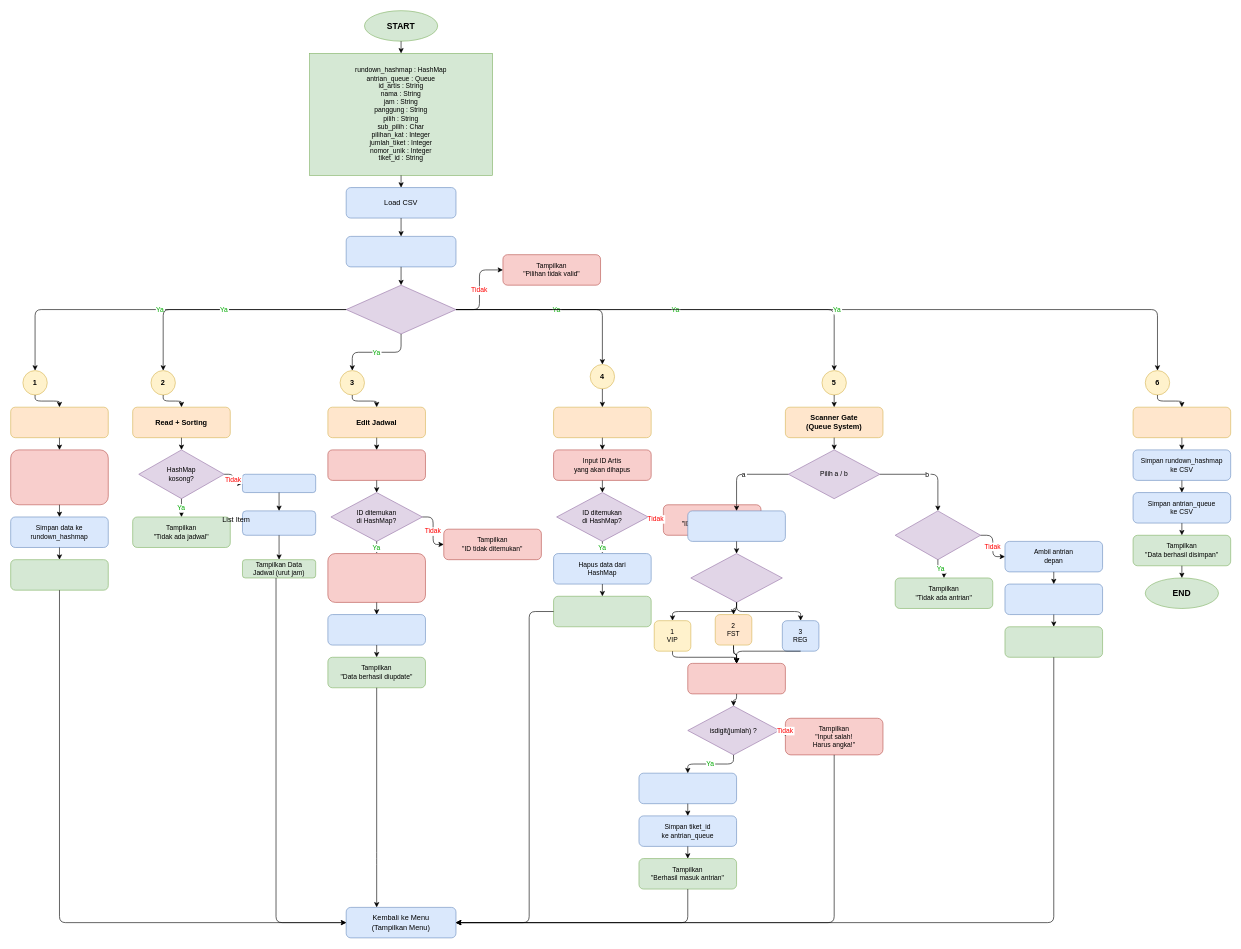
Some shapes in this 1241 by 949 pixel diagram are drawn without their labels. The box of each missing label's shape, as (x1, y1, x2, y2) in pixels:
Antrian kosong?: (895, 510, 981, 560)
Bubble Sort (berdasarkan jam): (242, 510, 316, 535)
Generate tiket_id: (638, 773, 737, 804)
Hapus Artis: (553, 407, 651, 438)
Hapus dari antrian_queue: (1004, 583, 1103, 615)
Input Data Baru: - Nama Artis - Jam Tampil - Panggung: (327, 553, 425, 602)
Input ID Artis yang akan diedit: (327, 449, 425, 480)
Input Jumlah Tiket: (687, 663, 785, 694)
Input: - ID Artis - Nama Artis - Jam Tampil - Panggung: (10, 449, 108, 505)
Kategori?: (690, 553, 782, 602)
Pilih Kategori Tiket: (687, 510, 785, 541)
Pilihan valid (1 - 6) ?: (346, 285, 456, 334)
Salin ke List: (242, 474, 316, 493)
Simpan CSV dan Keluar: (1132, 407, 1231, 438)
Tambah Artis: (10, 407, 108, 438)
Tampilkan "Data berhasil dihapus": (553, 596, 651, 627)
Tampilkan "Data berhasil ditambahkan": (10, 559, 108, 590)
Tampilkan Data yang keluar: (1004, 626, 1103, 657)
Tampilkan Menu Input Pilihan (1-6): (346, 236, 456, 267)
Update data di HashMap: (327, 614, 425, 645)
